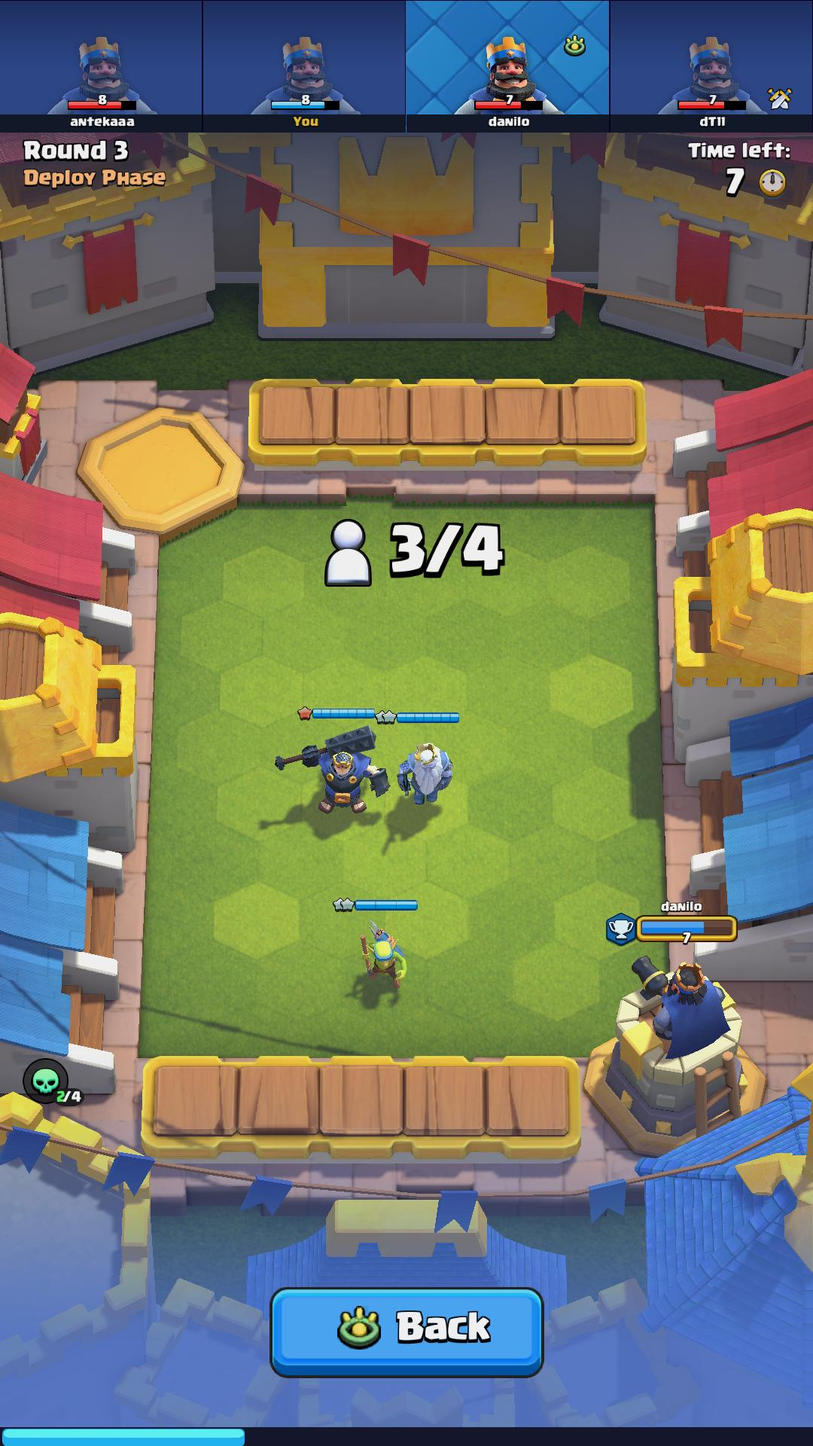ghost: (395, 733, 464, 801)
king: (273, 722, 393, 813)
spear: (355, 920, 424, 985)
